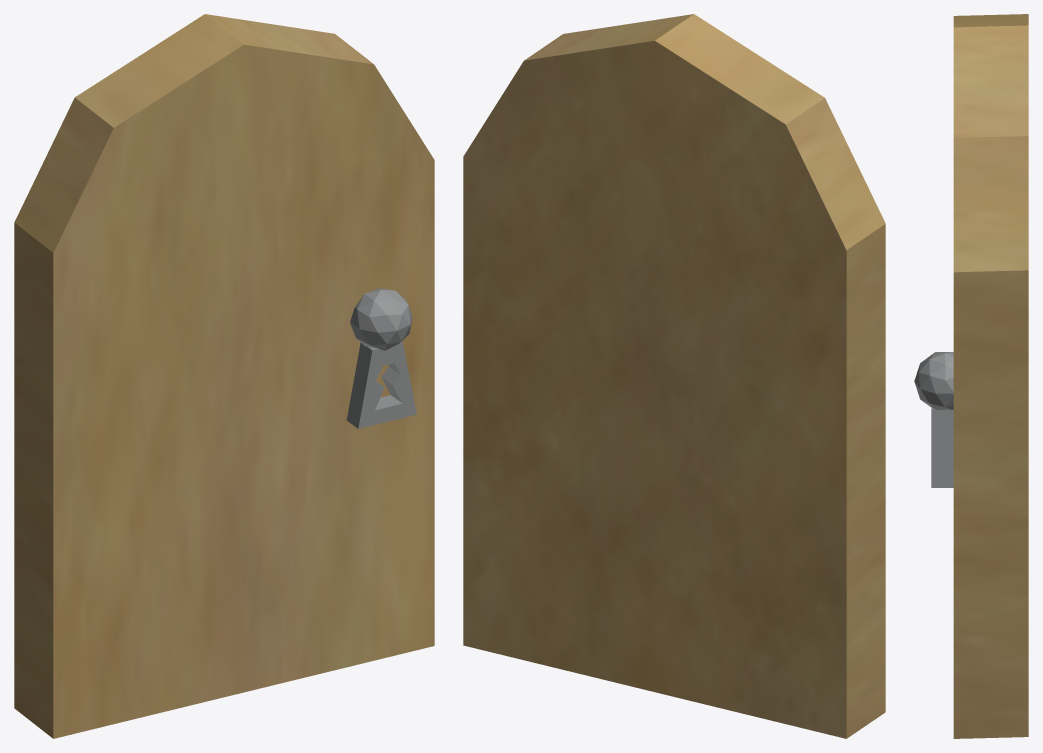
Rendered from doorLevel2.fbx.
3 renders of one model, left to right at view 1: azimuth 30°, elevation 25°; view 2: azimuth 150°, elevation 25°; view 3: azimuth 270°, elevation 25°, orthographic. The views are drawn at different scales.
Visible parts, largest first — view 1: mango.001; view 2: mango.001; view 3: mango.001.
Boxes of the visible parts, box(x1,y1,x2,y2) form: mango.001: box(14, 14, 434, 738); mango.001: box(463, 14, 885, 738); mango.001: box(914, 14, 1028, 738).
Size of the model in its own units: 152 by 248 by 41.17.
